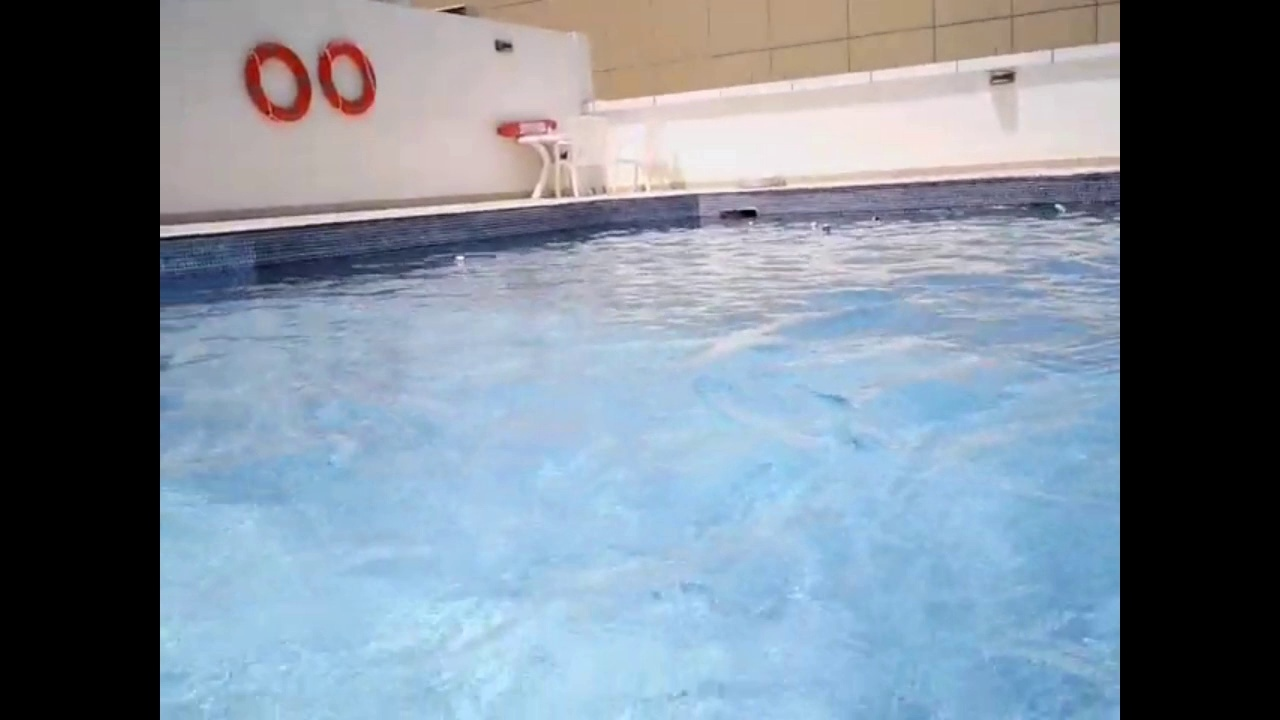debris: (1050, 199, 1072, 216), (864, 211, 885, 226), (806, 216, 822, 232), (451, 251, 466, 265), (818, 223, 834, 235), (745, 218, 756, 229)
